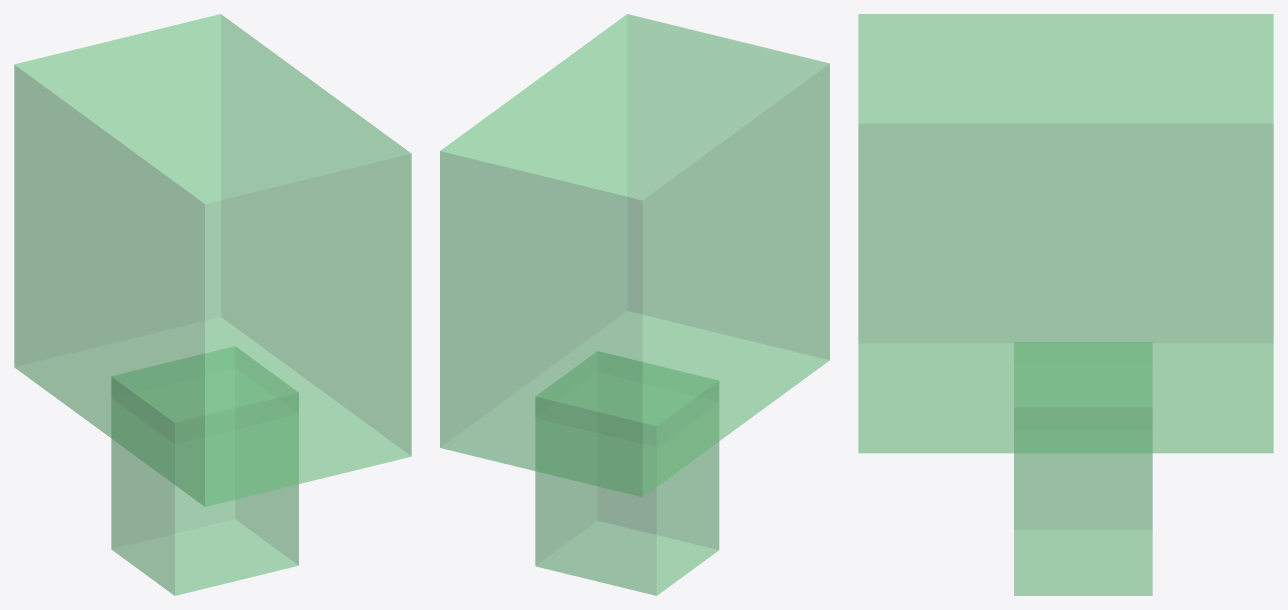
The model's file is prop_chicken_col.glb.
3 views of the same model, side by side, from view 1: azimuth 30°, elevation 25°; view 2: azimuth 150°, elevation 25°; view 3: azimuth 270°, elevation 25° (orthographic). The views are drawn at different scales.
Visible parts, largest first — view 1: prop_chicken_col_0, prop_chicken_col_1; view 2: prop_chicken_col_0, prop_chicken_col_1; view 3: prop_chicken_col_0, prop_chicken_col_1.
Boxes of the visible parts, x1=… form: prop_chicken_col_0: x1=14, y1=14, x2=411, y2=506; prop_chicken_col_1: x1=111, y1=346, x2=298, y2=595; prop_chicken_col_0: x1=440, y1=14, x2=829, y2=497; prop_chicken_col_1: x1=535, y1=351, x2=719, y2=595; prop_chicken_col_0: x1=858, y1=14, x2=1273, y2=453; prop_chicken_col_1: x1=1014, y1=342, x2=1152, y2=595.
Bounding box in the file's own units: 0.1584 × 0.3326 × 0.2534.
